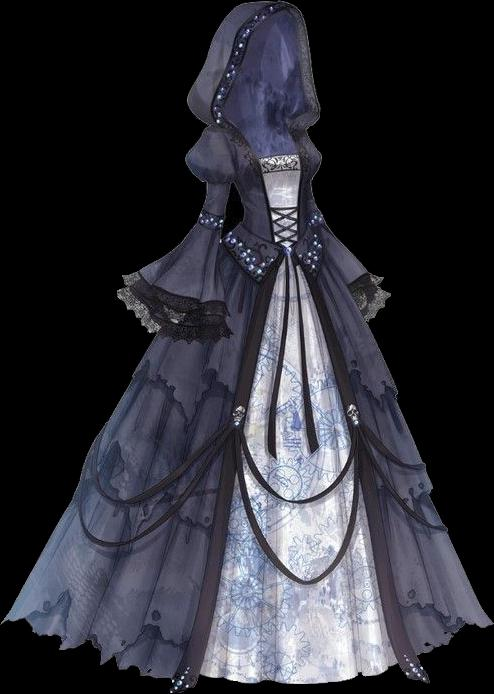Bodice: (226, 130, 311, 250)
Hemline: (9, 250, 295, 689), (304, 273, 488, 678), (196, 659, 396, 688), (220, 242, 332, 286)
Neckline: (241, 123, 305, 164)
Skirt: (9, 221, 493, 693)
Sleeve: (117, 126, 233, 343)
Sleeveline: (221, 127, 238, 175), (197, 215, 222, 233), (207, 175, 233, 187)
Waistline: (237, 221, 316, 258)
